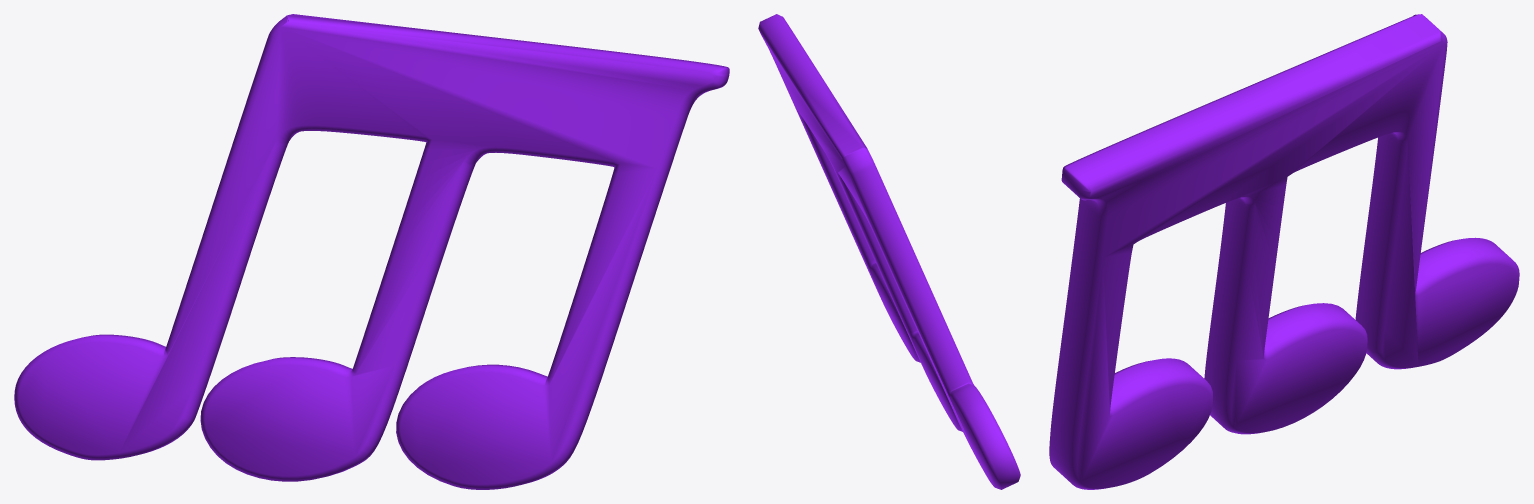
File: rhythms-model.glb
3 renders of one model, left to right at view 1: azimuth 30°, elevation 25°; view 2: azimuth 150°, elevation 25°; view 3: azimuth 270°, elevation 25°, orthographic. The views are drawn at different scales.
Visible parts, largest first — view 1: path2; view 2: path2; view 3: path2.
Boxes of the visible parts, x1,y1,x2,y2 form: path2: (14,14,729,489); path2: (758,14,1020,489); path2: (1049,14,1519,489).
Size of the model in its own units: 0.9847 by 0.7145 by 0.68.
